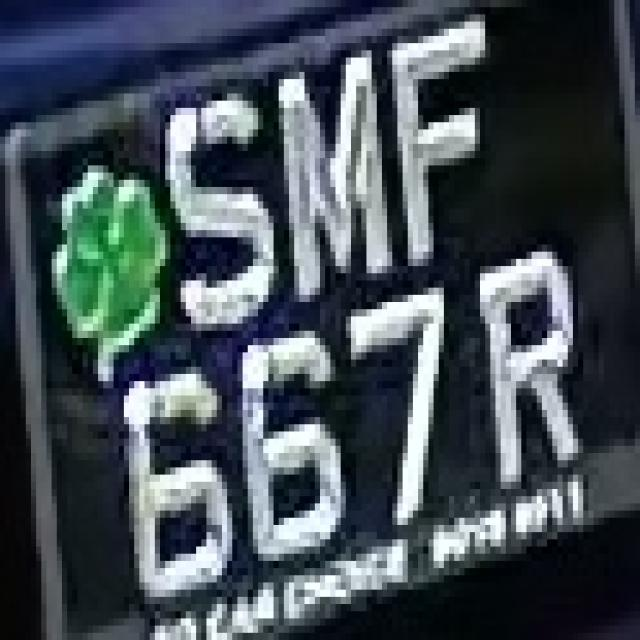6: (227, 302, 356, 575), (98, 367, 232, 626)
7: (336, 266, 460, 561)
F: (372, 21, 506, 288)
M: (258, 65, 408, 316)
R: (469, 259, 594, 496)
S: (139, 79, 279, 360)
